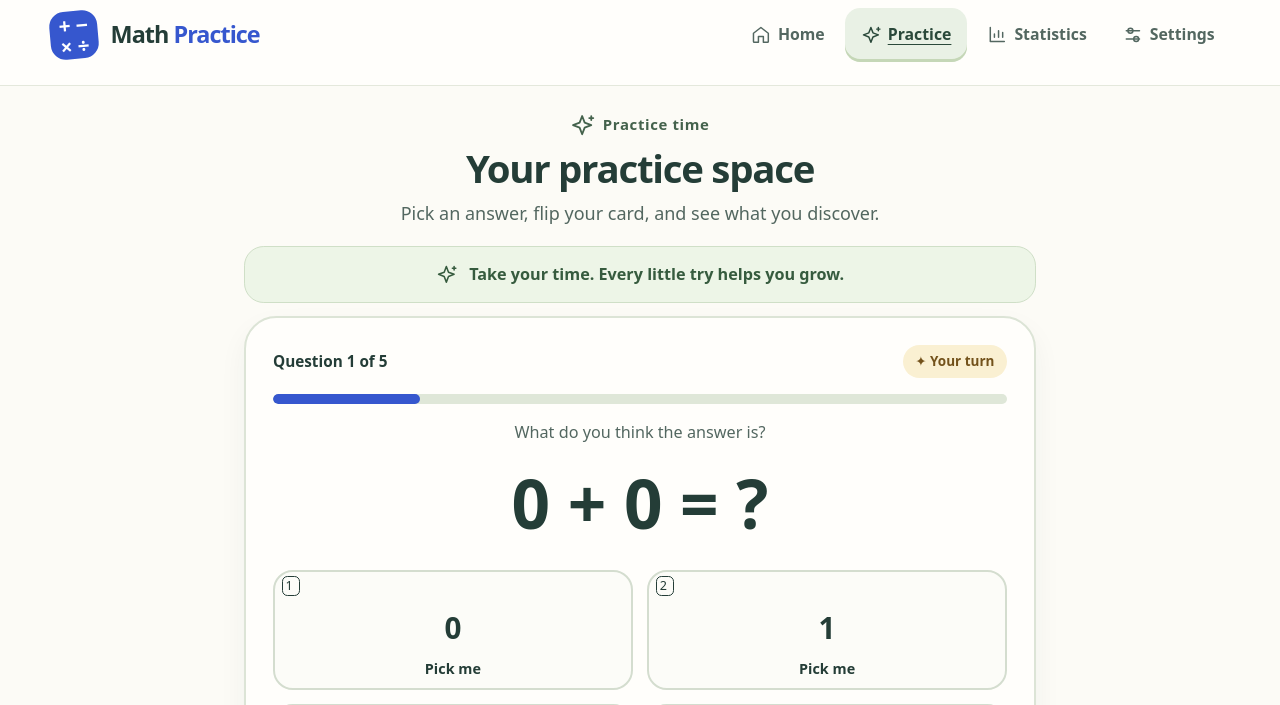
Test: failure while preparing a mistake rolls back the whole result and allows an exact-once retry
The width and height of the screenshot is (1280, 705).
Click the button named "Answer 0" at (453, 630), box [273,570,633,690]
(page scrolled)
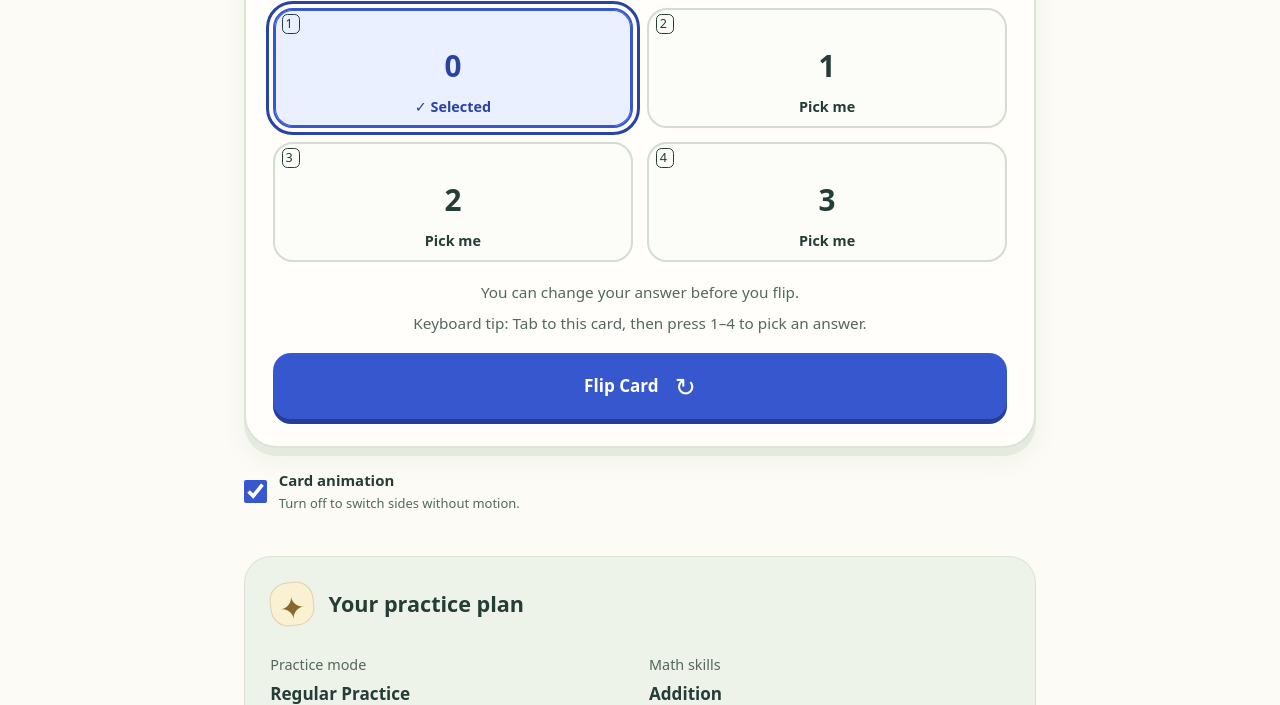
Click the button "Flip Card ↻" at (640, 386), box [273,353,1007,419]
(page scrolled)
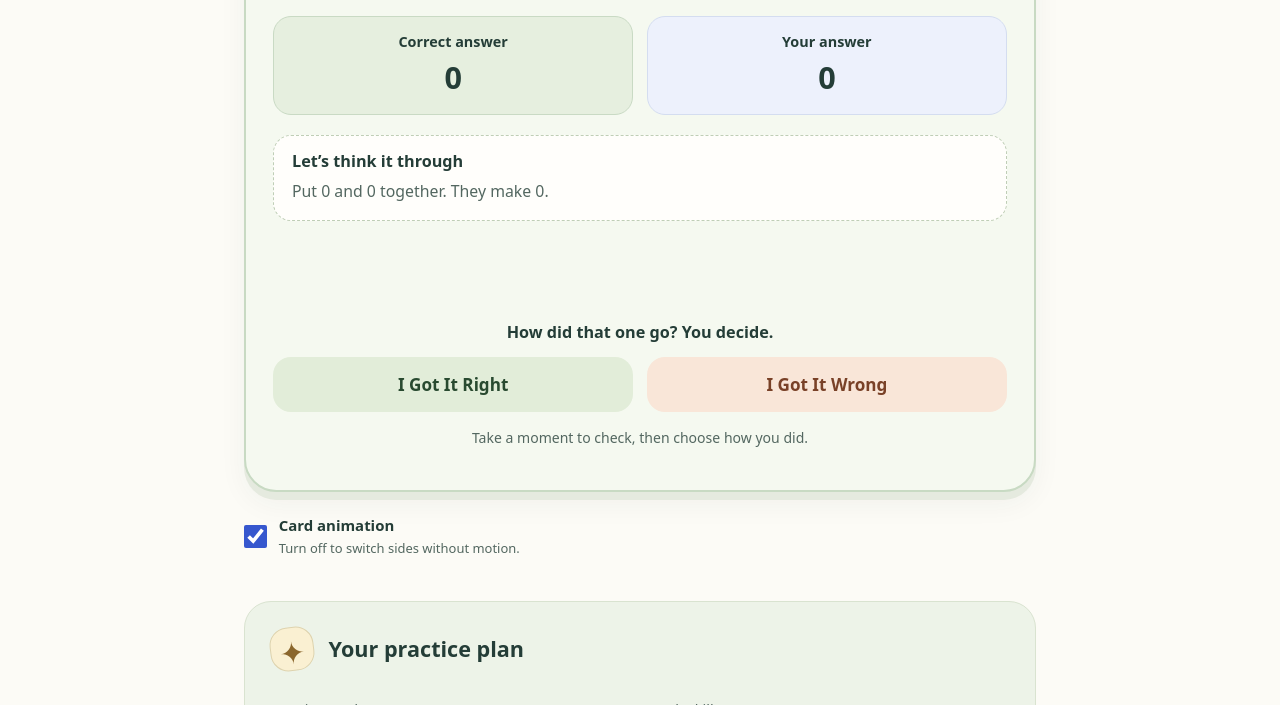
Click the button "I Got It Wrong" at (827, 385), box [647,358,1007,413]
(page scrolled)
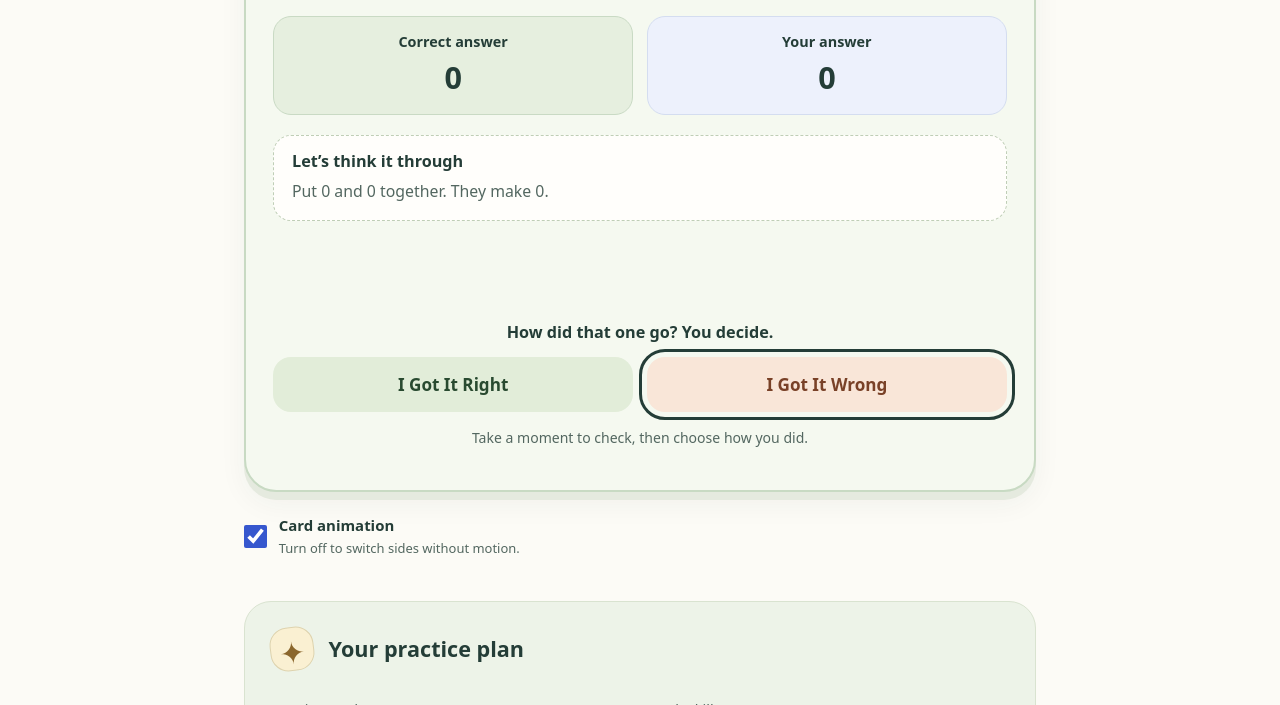
Now the button "I Got It Wrong" is enabled
Click the button "I Got It Wrong" at (827, 385), box [647,358,1007,413]
(page scrolled)
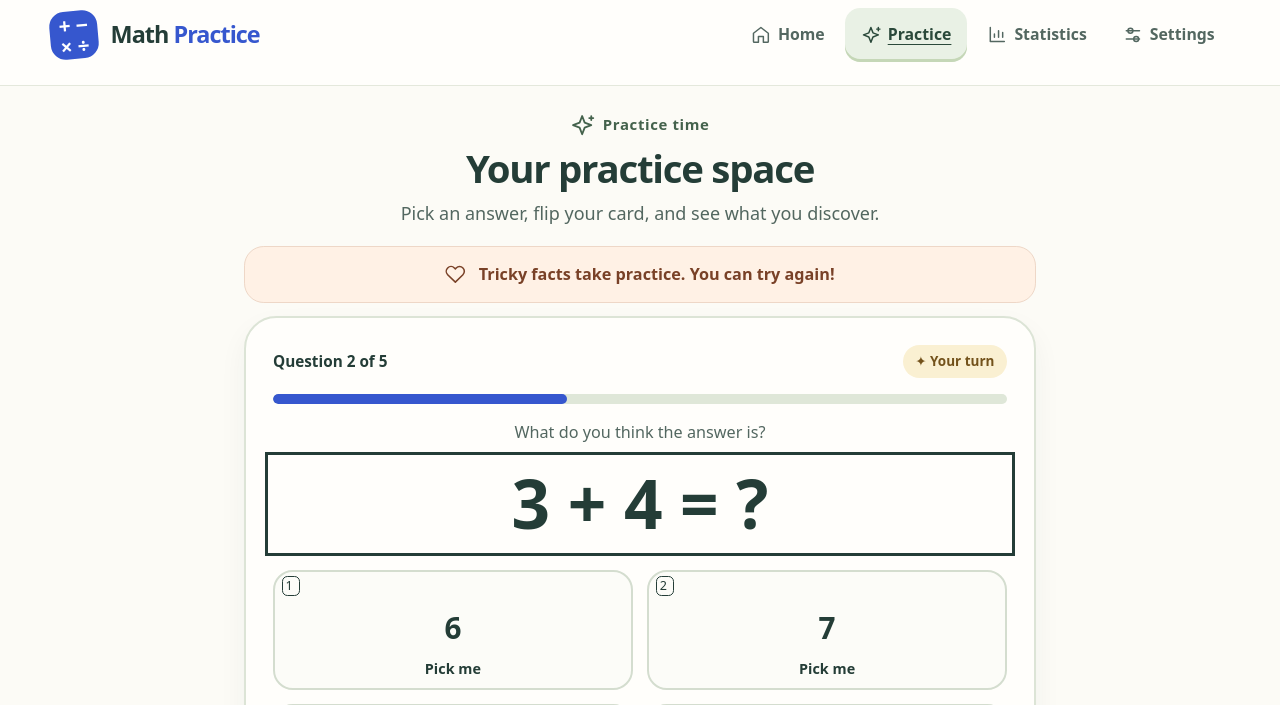
Now the text "Question 2 of 5" is shown, box [273,349,388,374]
